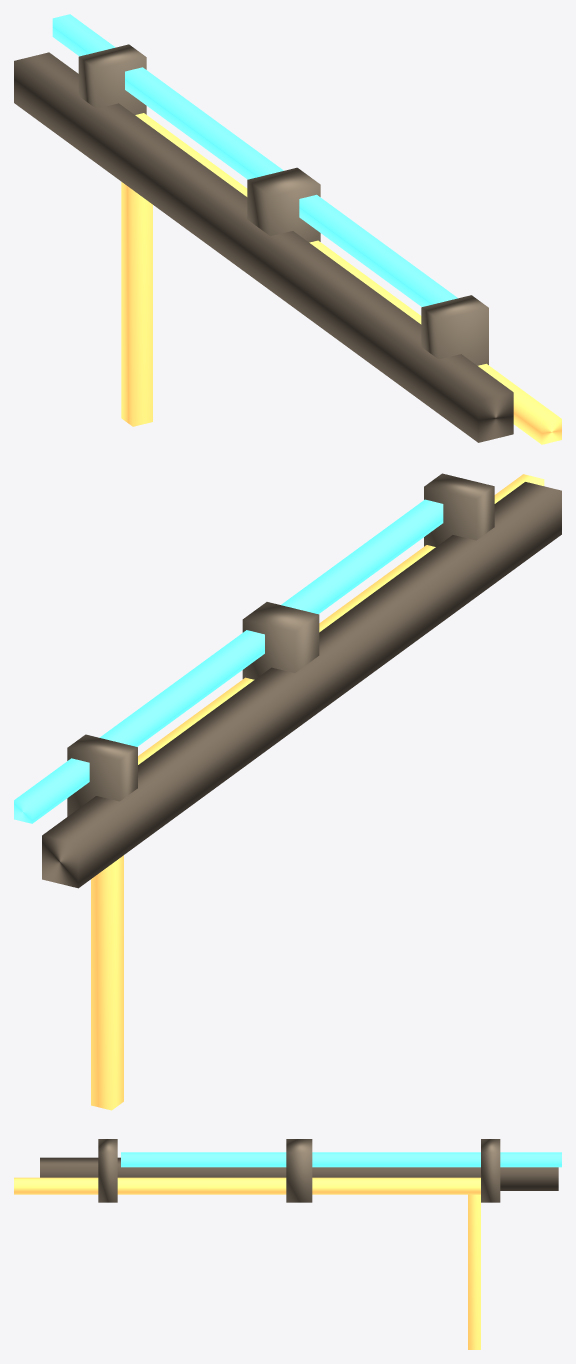
The model's file is refinery-cable-tray-lod1.glb.
The picture shows the model from 3 angles, top to bottom: view 1: azimuth 30°, elevation 25°; view 2: azimuth 150°, elevation 25°; view 3: azimuth 270°, elevation 25°; orthographic projection. The views are drawn at different scales.
Parts seen in each view (by area): view 1: refinery-cable-tray-spine, refinery-cable-tray-data, refinery-cable-tray-drop, refinery-cable-tray-power, refinery-cable-tray-clamp-forward, refinery-cable-tray-clamp, refinery-cable-tray-clamp-aft; view 2: refinery-cable-tray-spine, refinery-cable-tray-data, refinery-cable-tray-drop, refinery-cable-tray-clamp, refinery-cable-tray-clamp-forward, refinery-cable-tray-clamp-aft, refinery-cable-tray-power; view 3: refinery-cable-tray-power, refinery-cable-tray-spine, refinery-cable-tray-data, refinery-cable-tray-drop, refinery-cable-tray-clamp, refinery-cable-tray-clamp-forward, refinery-cable-tray-clamp-aft.
Boxes of the visible parts, box(x1,y1,x2,y2) form: refinery-cable-tray-spine: box(14, 52, 513, 442); refinery-cable-tray-data: box(52, 14, 457, 306); refinery-cable-tray-drop: box(121, 182, 152, 426); refinery-cable-tray-power: box(135, 113, 561, 444); refinery-cable-tray-clamp-forward: box(421, 295, 488, 365); refinery-cable-tray-clamp: box(247, 167, 320, 242); refinery-cable-tray-clamp-aft: box(78, 44, 146, 114); refinery-cable-tray-spine: box(42, 482, 561, 888); refinery-cable-tray-data: box(14, 499, 443, 823); refinery-cable-tray-drop: box(91, 855, 123, 1110); refinery-cable-tray-clamp: box(242, 602, 319, 679); refinery-cable-tray-clamp-forward: box(424, 473, 494, 546); refinery-cable-tray-clamp-aft: box(67, 734, 137, 816); refinery-cable-tray-power: box(138, 474, 544, 764); refinery-cable-tray-power: box(14, 1177, 480, 1194); refinery-cable-tray-spine: box(40, 1157, 558, 1190); refinery-cable-tray-data: box(121, 1152, 561, 1167); refinery-cable-tray-drop: box(468, 1194, 480, 1349); refinery-cable-tray-clamp: box(286, 1139, 312, 1202); refinery-cable-tray-clamp-forward: box(98, 1139, 117, 1202); refinery-cable-tray-clamp-aft: box(481, 1139, 500, 1202).
Bounding box in the file's own units: 0.25 × 1.35 × 3.38.
